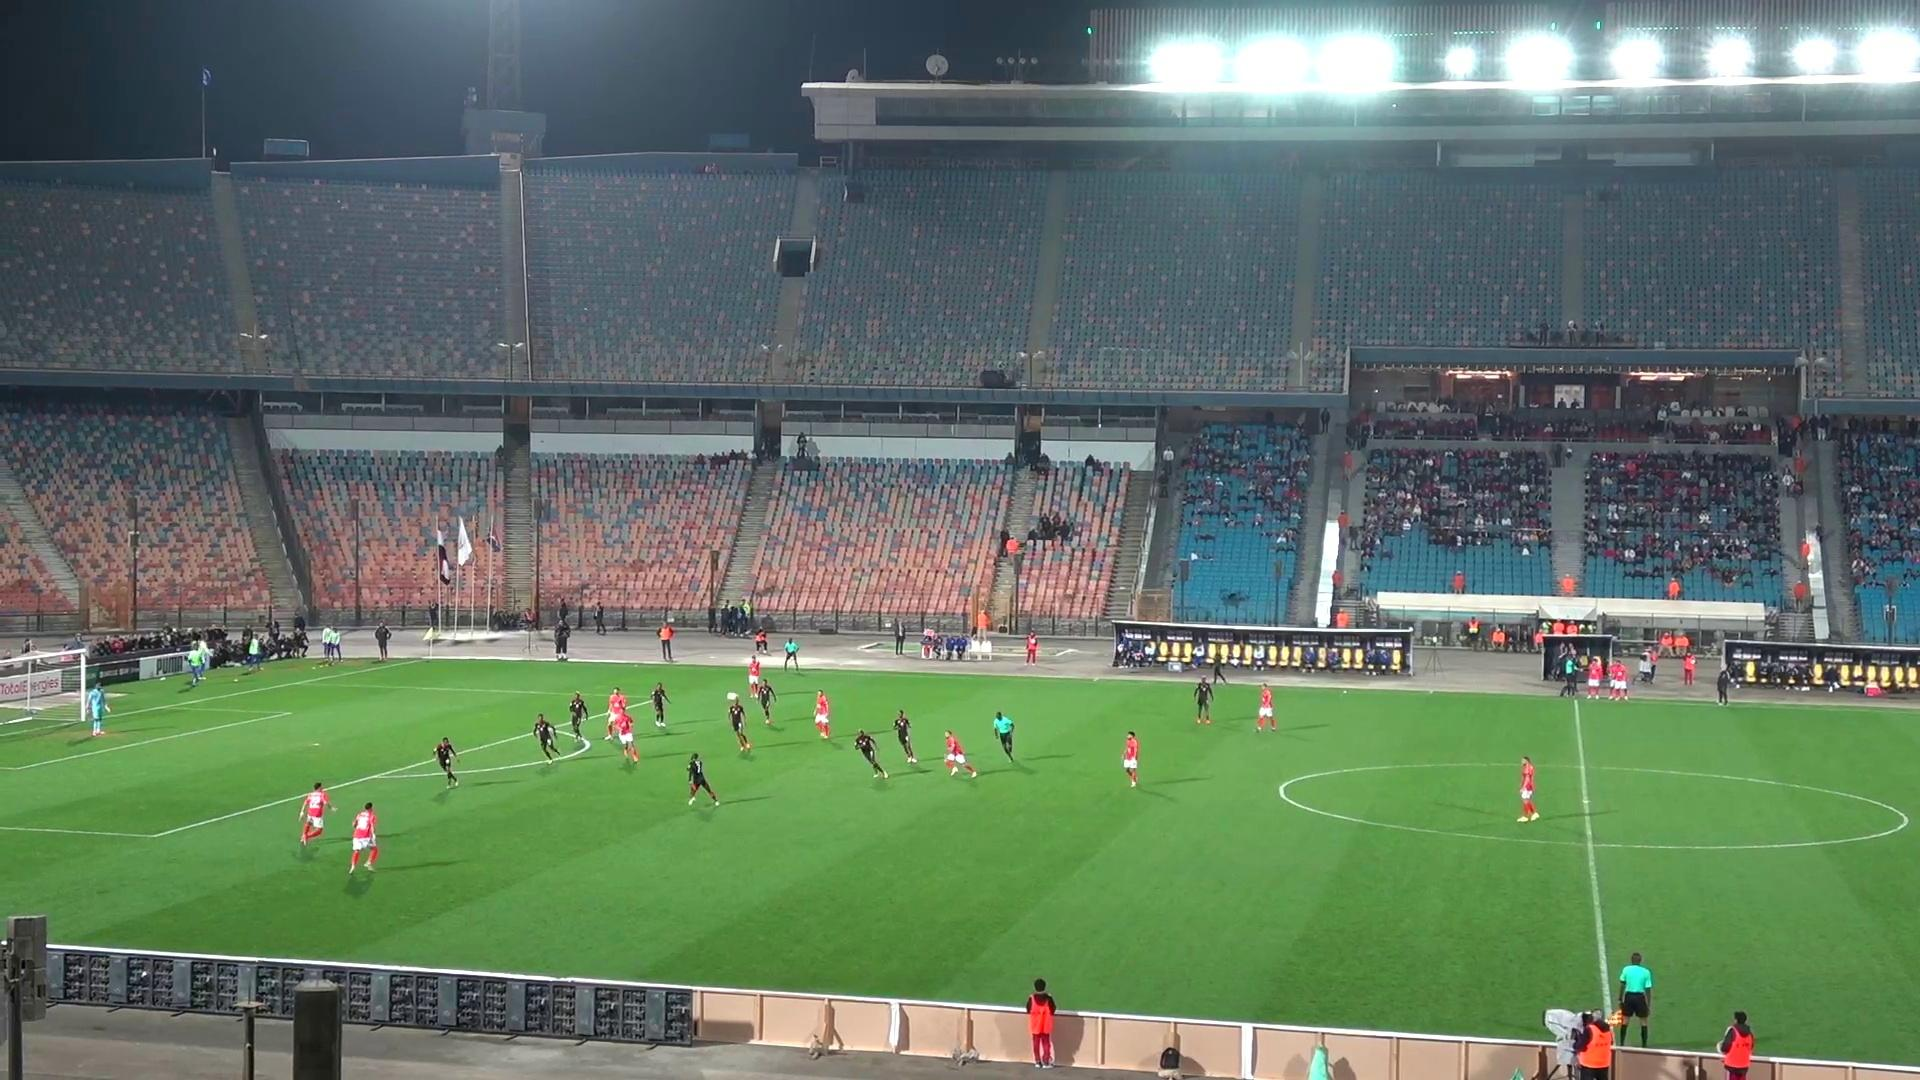GK2: (82, 675, 109, 736)
Refree: (1617, 952, 1654, 1044), (992, 711, 1015, 761), (778, 638, 800, 669)
Team1: (298, 782, 335, 847), (348, 802, 378, 874), (605, 707, 640, 761), (943, 731, 977, 777), (1516, 756, 1539, 820), (1120, 732, 1141, 787), (604, 687, 626, 738), (811, 688, 831, 738), (1255, 683, 1276, 729), (746, 654, 767, 695)
Team2: (687, 753, 720, 804), (853, 731, 887, 778), (891, 709, 918, 766), (531, 713, 559, 764), (1193, 675, 1222, 723), (728, 694, 752, 752), (433, 736, 459, 787), (749, 678, 775, 724), (566, 694, 589, 738), (649, 683, 671, 727)
